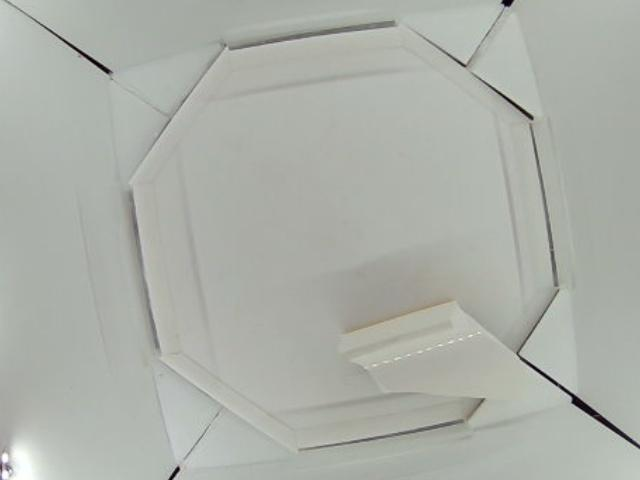China: (342, 297, 572, 404)
